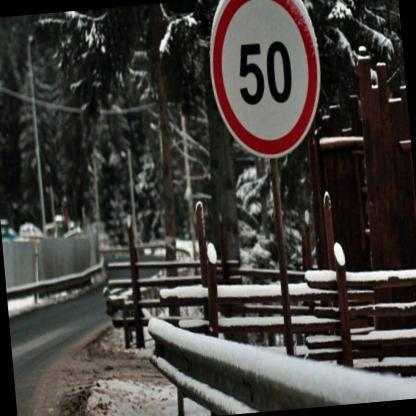road_sign: (211, 0, 320, 157)
